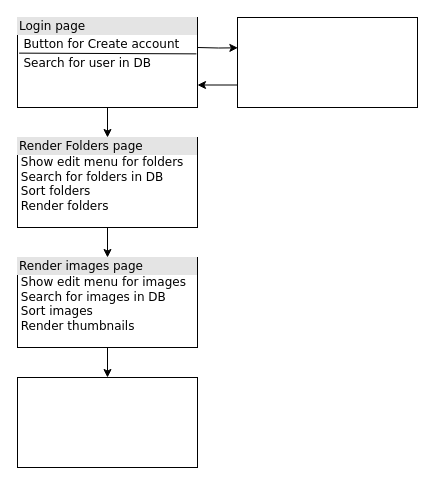
The diagram is 435 pixels wide and 485 high, and some of its shapes have lost their labels. The shapes that lost their labels are listed below. From the top down, each one's box as (x1, y1, x2, y2) in pixels, then its label:
(236, 16, 418, 108): Create account Check if user exists Create user in DB Go back to login page
(16, 376, 198, 468): Download images Zip selected images Download zip
